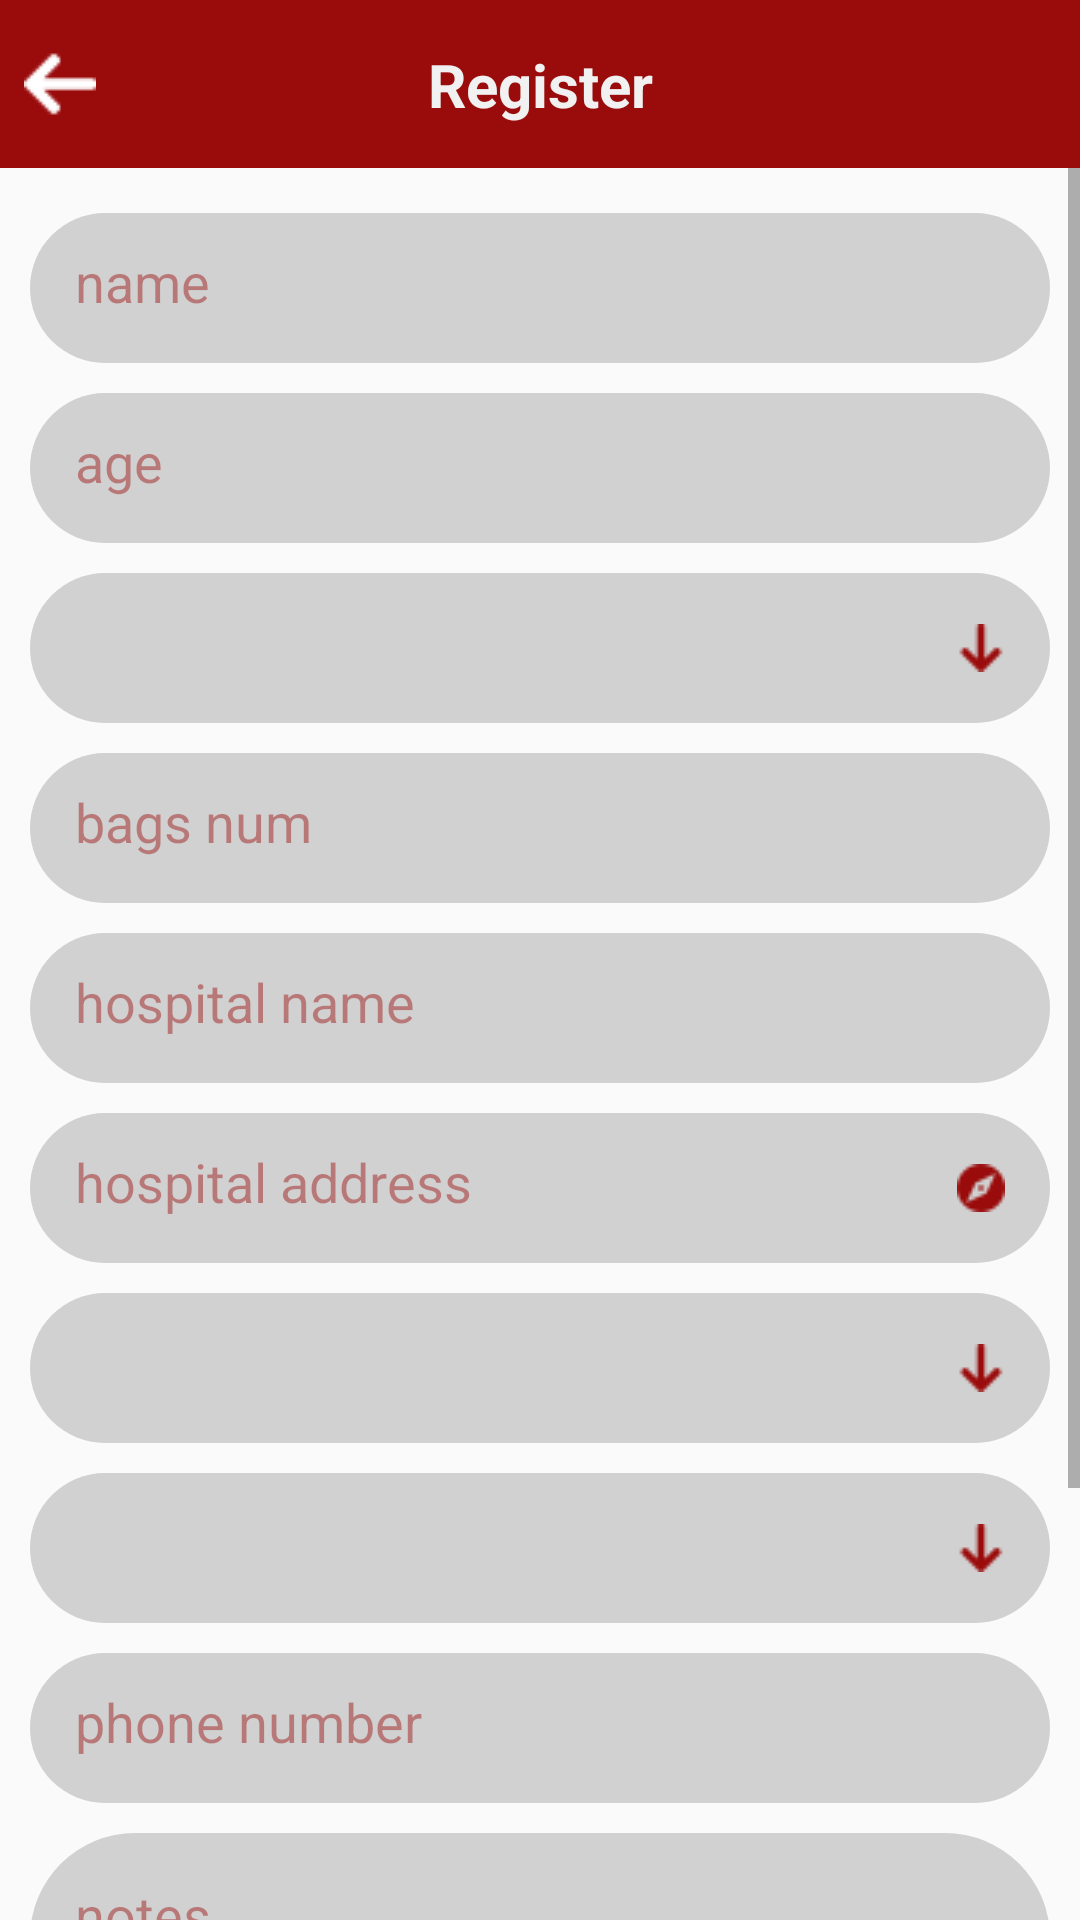

Screen size 1080*1920. Icon name, then its box in pixels as (x1, y1, x2, y2):
arrow left: (24, 53, 96, 115)
drop down: (959, 624, 1003, 672), (959, 1344, 1003, 1392), (959, 1524, 1003, 1572)
